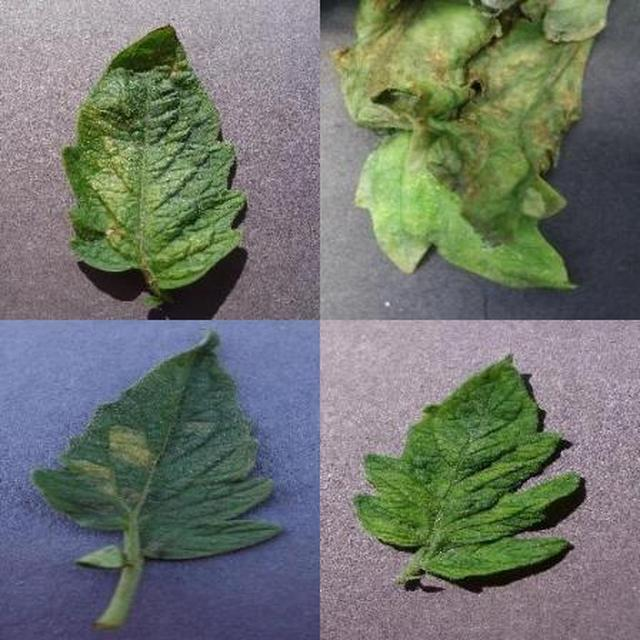Spider Mites Leaf: (222, 209, 640, 640)
